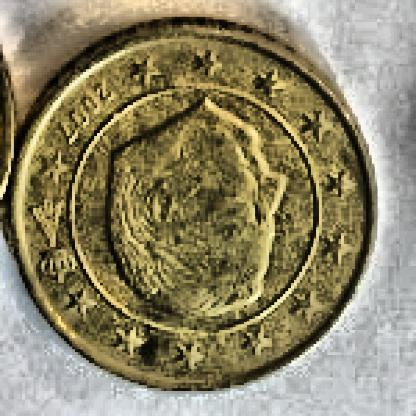coin: (10, 16, 380, 392)
